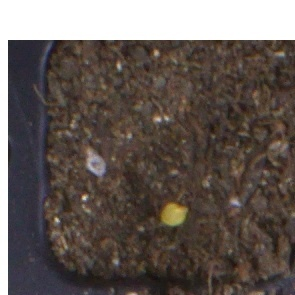chilli seed: (159, 201, 190, 227)
